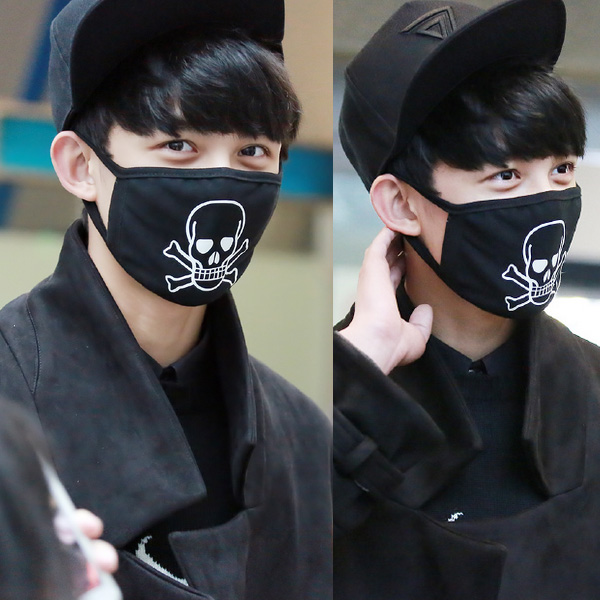face_mask: (102, 70, 283, 305), (422, 97, 579, 316)
